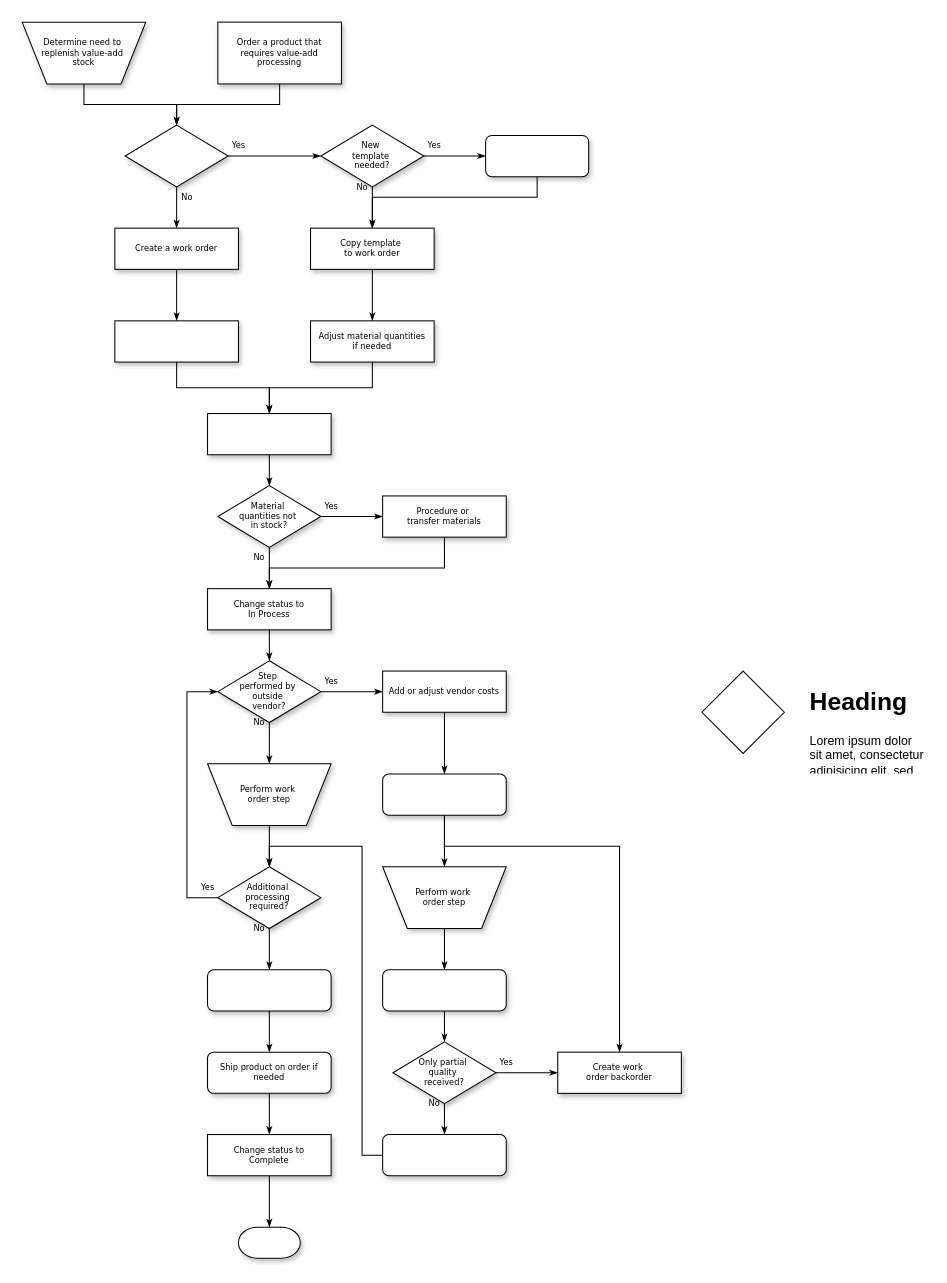
Some shapes in this 947 by 1283 pixel diagram are drawn without their labels. The shapes that lost their labels are listed below. From the top down, each one's centre as x and y in pixels, then its label:
At point 177,157: "Frequently performed process?".
At point 537,157: "Create work order template".
At point 177,342: "Add materials to work order processes".
At point 269,435: "Monitor work orders".
At point 444,795: "Ship materials to vendor".
At point 269,991: "Receive info stock".
At point 444,991: "Receive product from vendor".
At point 444,1156: "Pay vendor invoice".
At point 269,1243: "End".
